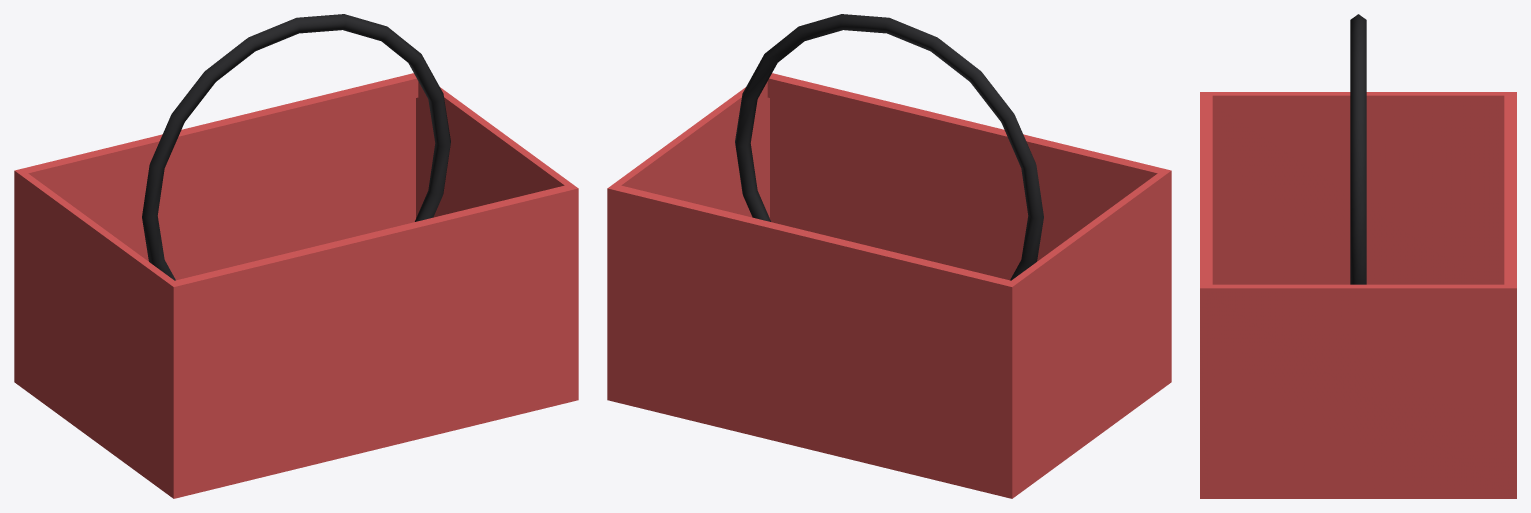
File: basket.glb
The picture shows the model from 3 angles, left to right: view 1: azimuth 30°, elevation 25°; view 2: azimuth 150°, elevation 25°; view 3: azimuth 270°, elevation 25°; orthographic projection.
Parts seen in each view (by area): view 1: tint_basket, black_plastic; view 2: tint_basket, black_plastic; view 3: tint_basket, black_plastic.
Part boxes in pixels (bbox=[...]): tint_basket: bbox=[14, 73, 578, 498]; black_plastic: bbox=[142, 14, 450, 280]; tint_basket: bbox=[607, 73, 1171, 498]; black_plastic: bbox=[735, 14, 1043, 280]; tint_basket: bbox=[1200, 92, 1516, 498]; black_plastic: bbox=[1350, 14, 1366, 284].
Size of the model in its own units: 0.44 by 0.388 by 0.3.
